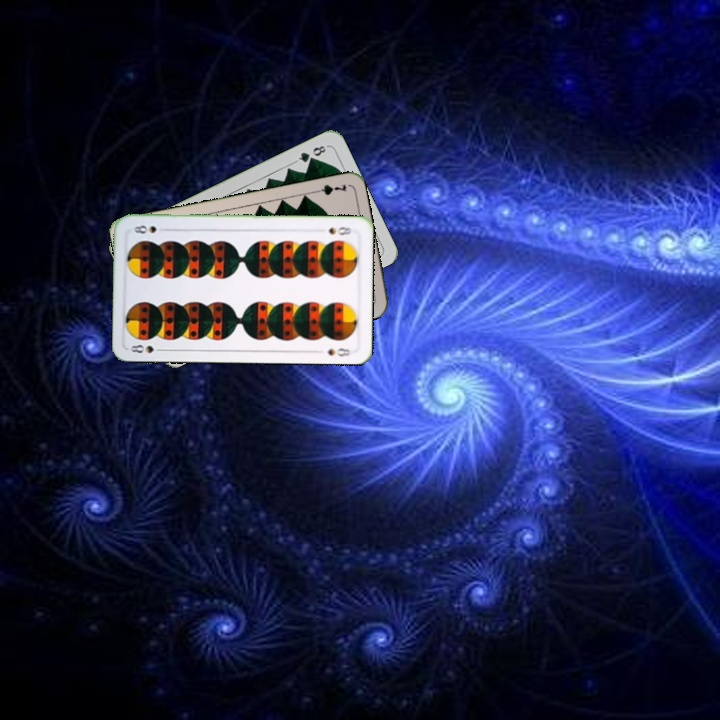G7: (309, 180, 349, 198)
G8: (292, 141, 329, 165)
S8: (127, 341, 167, 356), (324, 223, 354, 238)
